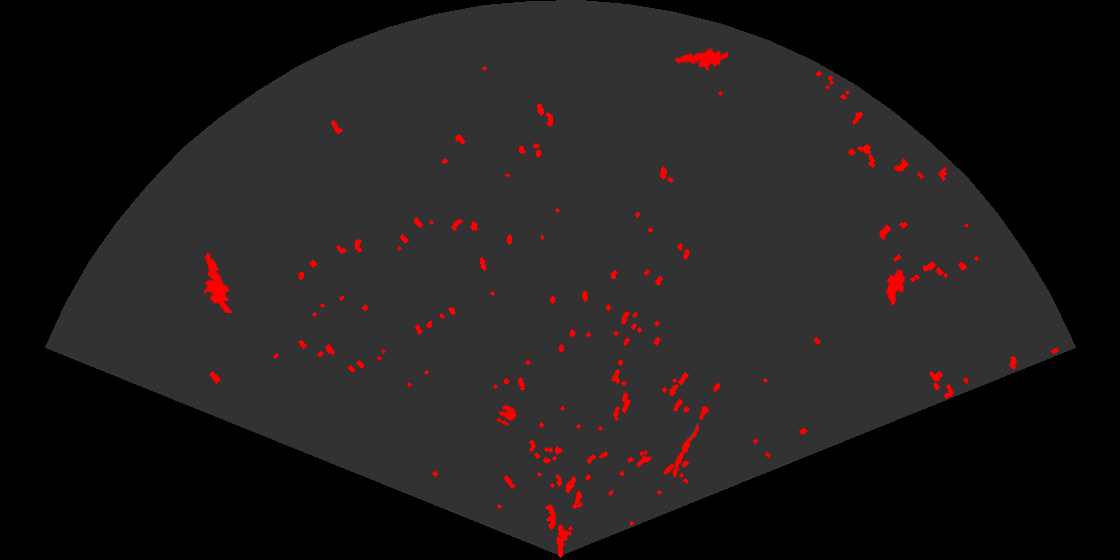AUV: (884, 267, 907, 308)
ball: (495, 403, 519, 428)
chain: (671, 397, 713, 479)
frogman: (202, 251, 234, 313), (672, 46, 728, 72)
